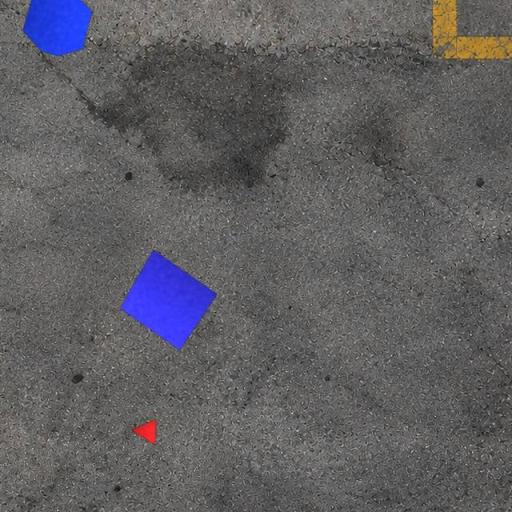BLUE_SQUARE: (119, 249, 218, 351)
